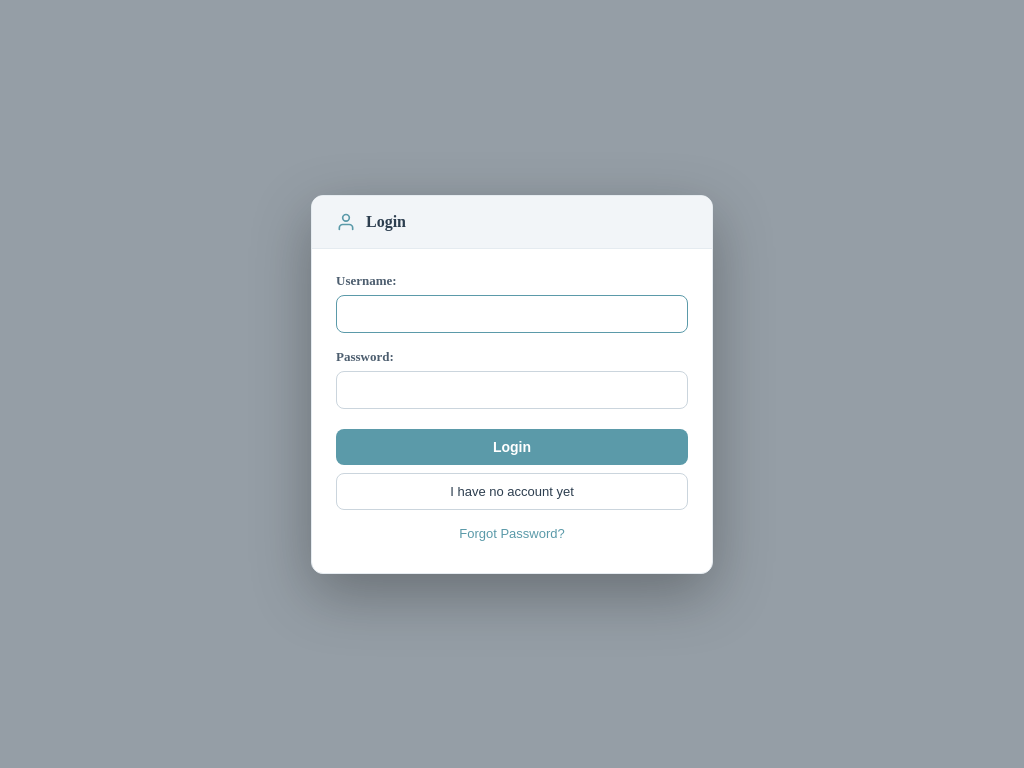
Test: LoginForm › validates password match in register mode
The image size is (1024, 768).
// Switch to register mode
Click the button "I have no account yet": (512, 491) [336,472,688,510]
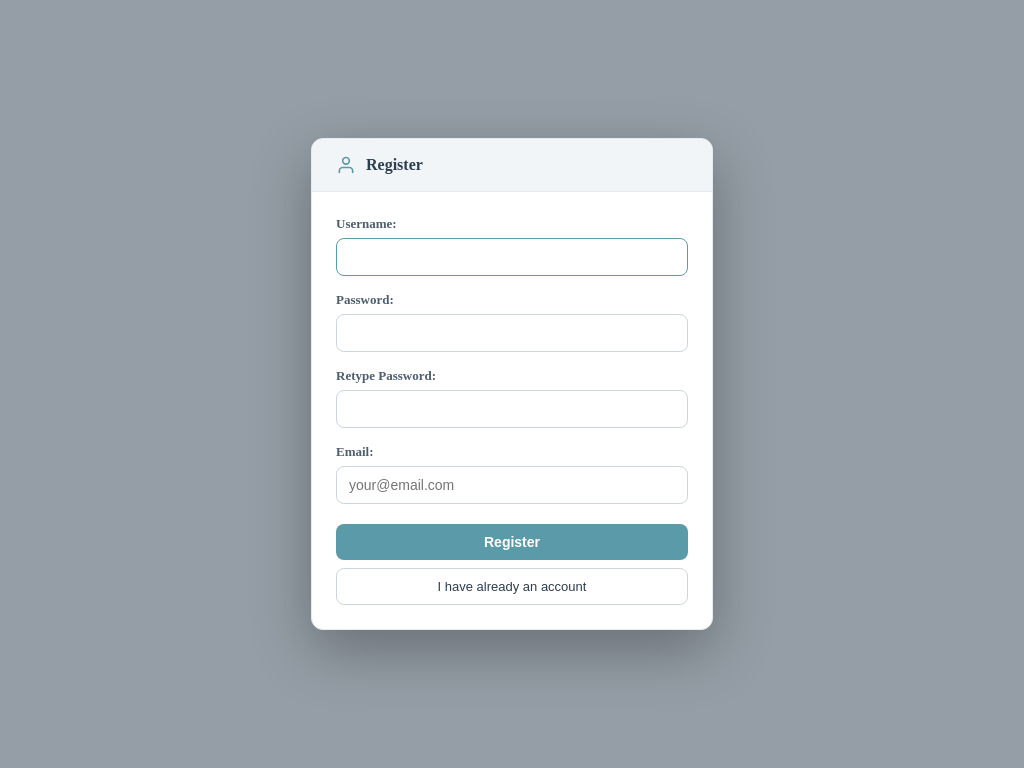
In the field with id "register-username": (512, 257) [336,238,688,276], type "testuser"
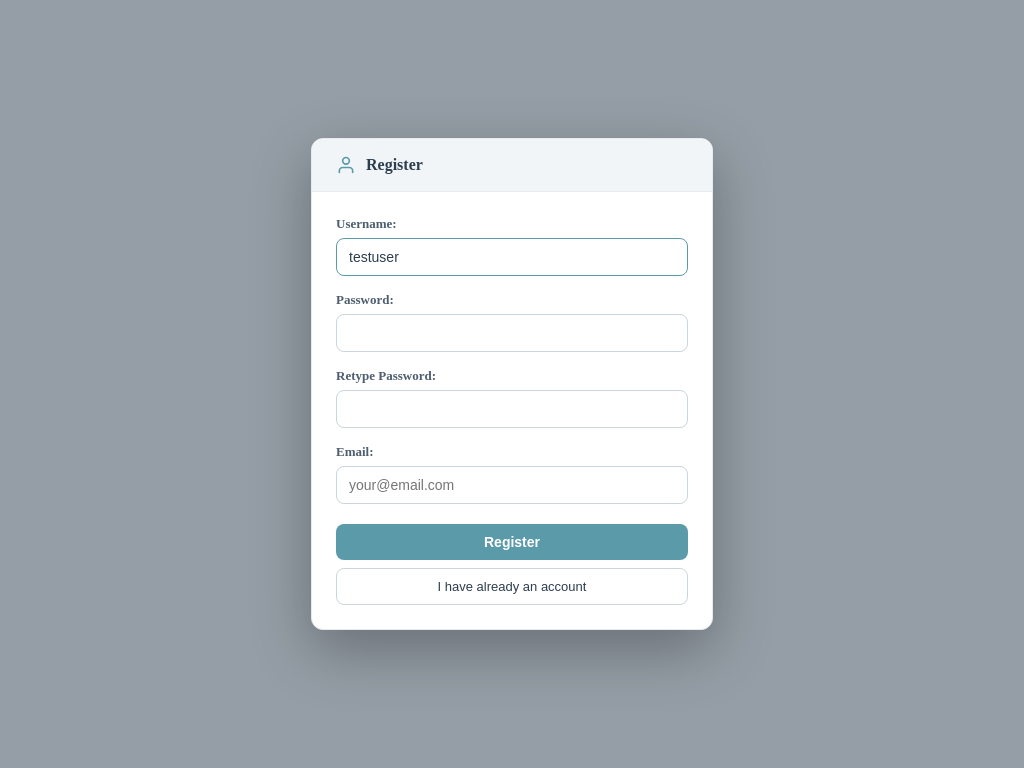
In the password field with id "register-password": (512, 333) [336,314,688,352], type "password123"
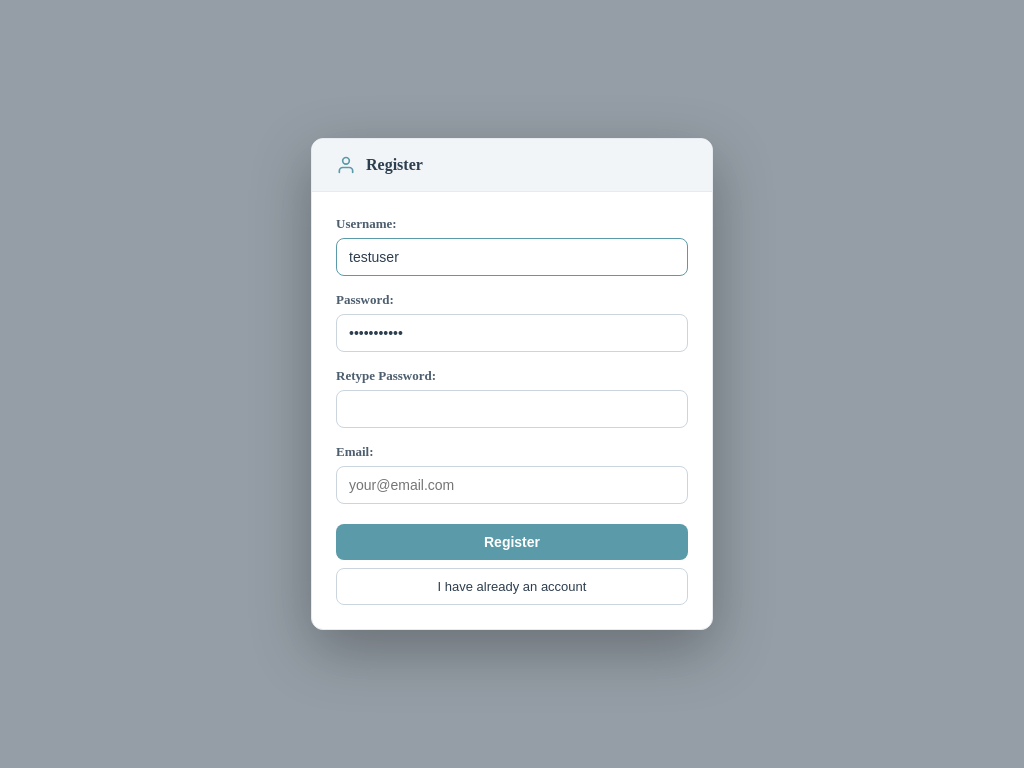
In the password field with id "register-password-again": (512, 409) [336,390,688,428], type "password456"
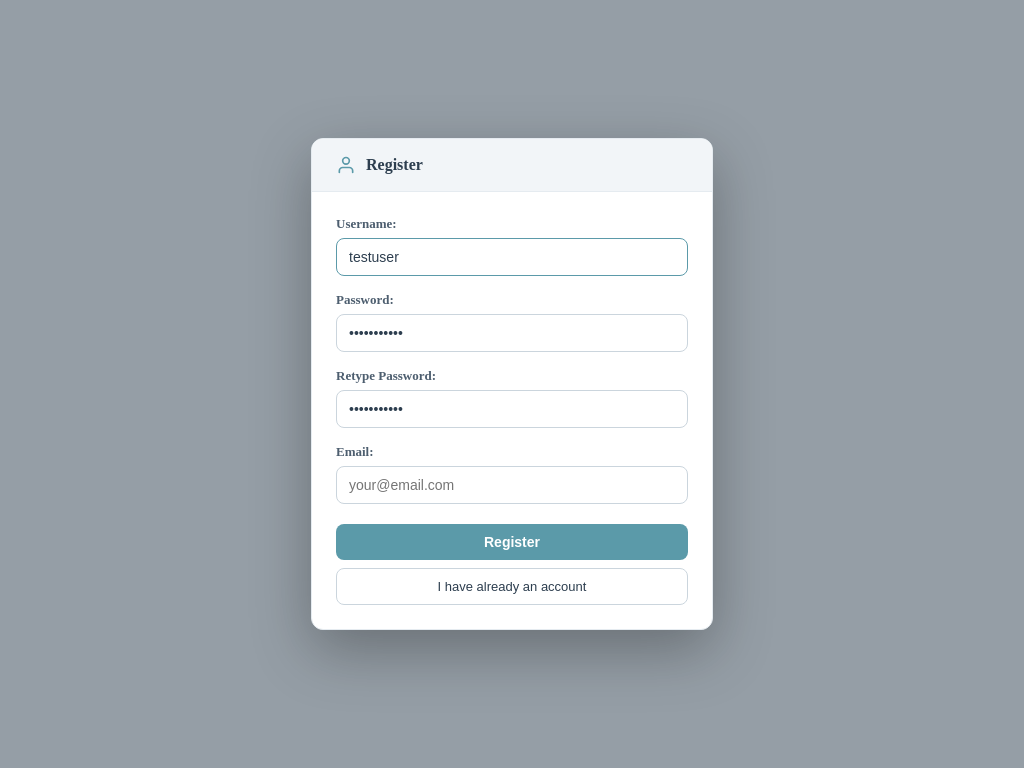
Click the button "Register": (512, 542) [336,524,688,560]
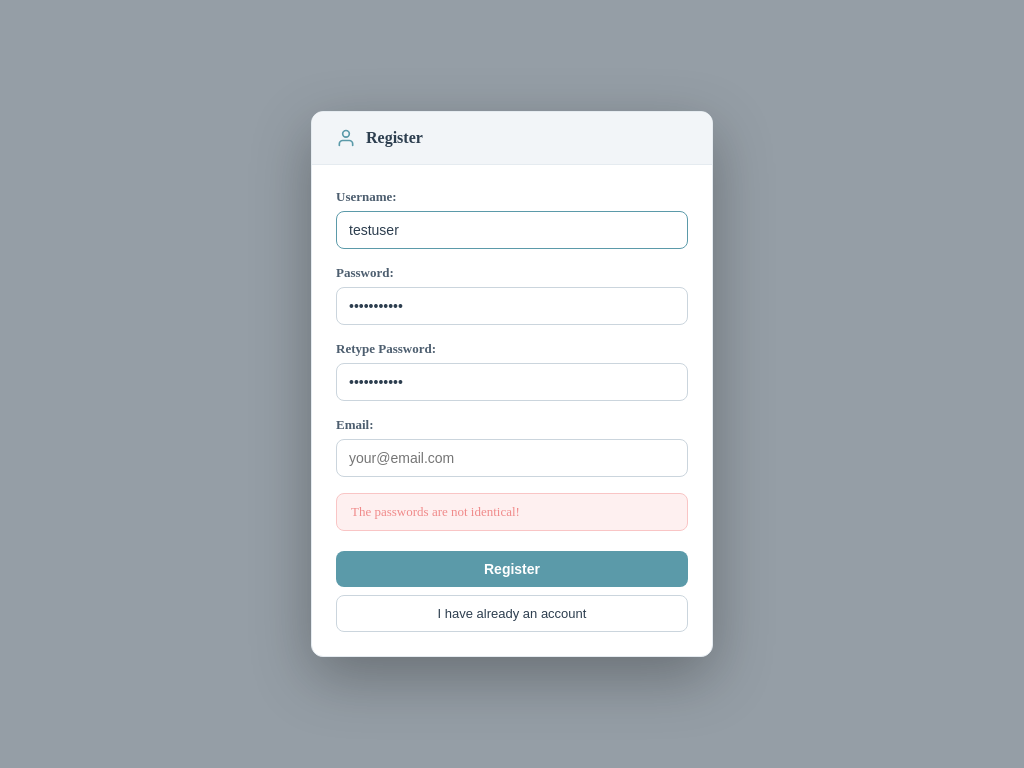
Now the text "The passwords are not identical!" is shown, box [336,493,688,531]
